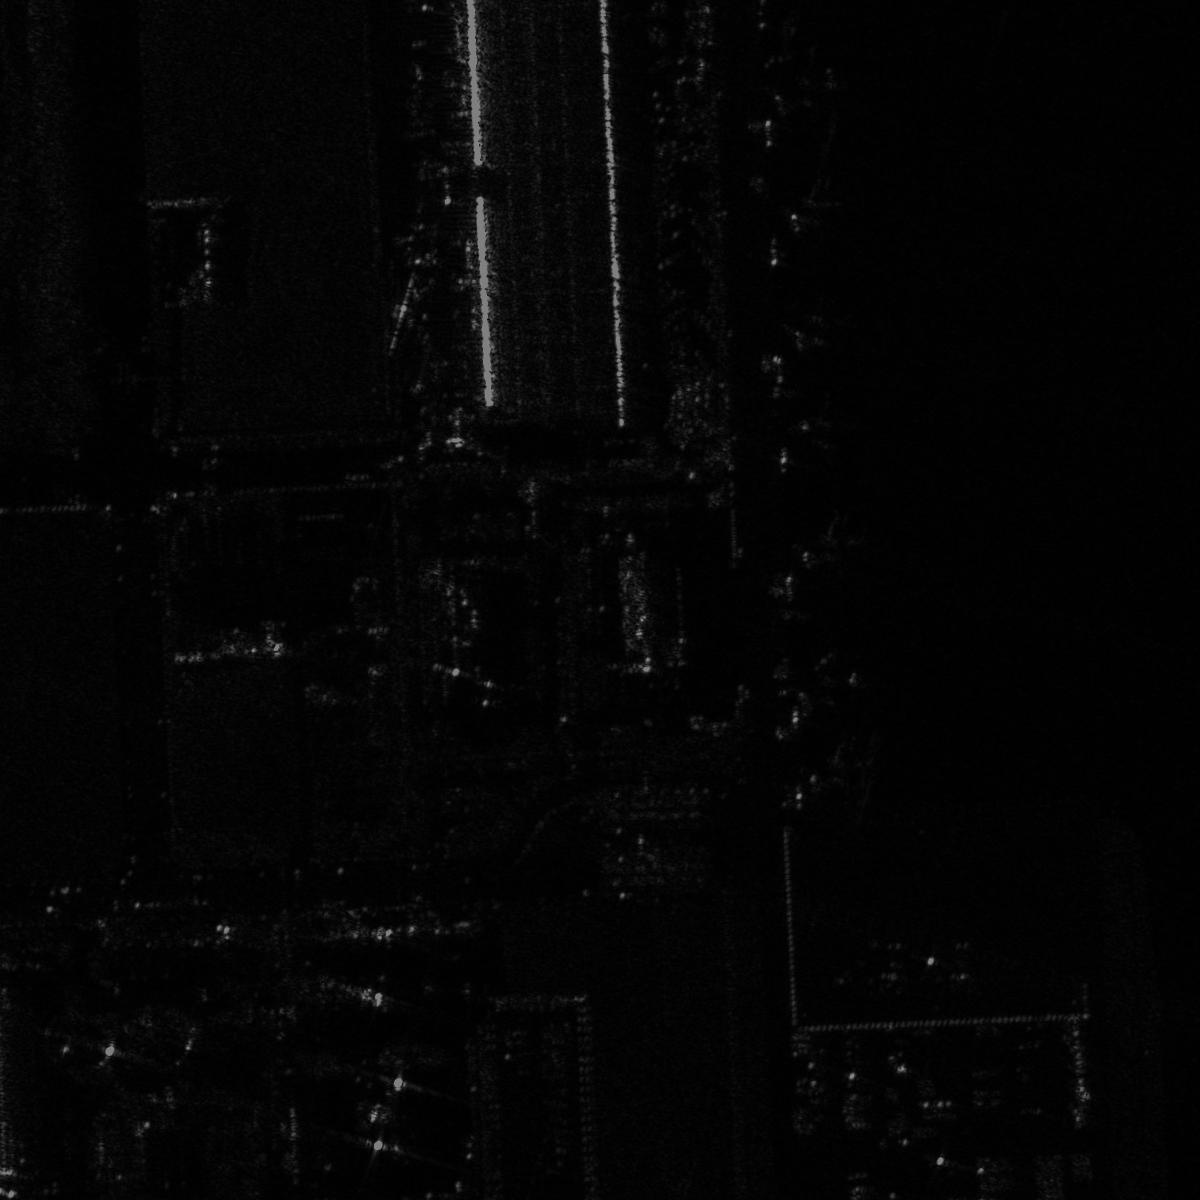A220: (779, 642, 878, 718), (773, 46, 853, 118)
A320/321: (784, 511, 870, 574)
ARJ21: (868, 932, 918, 995)
other: (775, 171, 855, 244), (803, 733, 885, 801), (784, 398, 862, 458), (773, 303, 841, 362), (934, 933, 995, 995)
